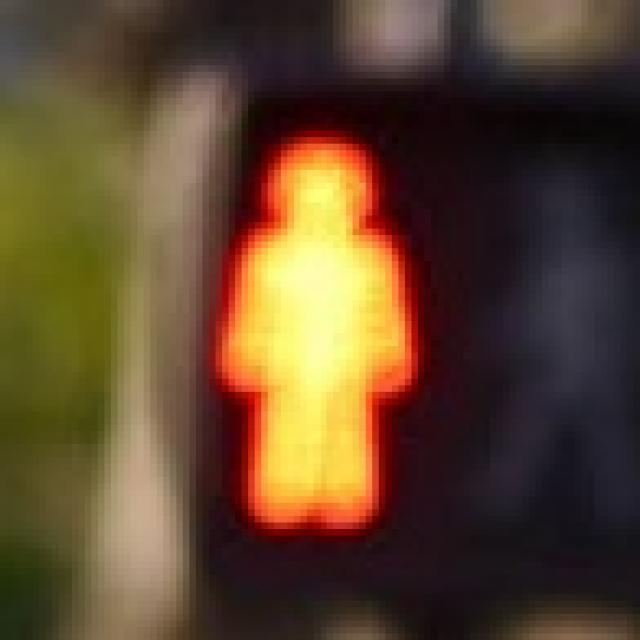red_light: (176, 105, 444, 542)
